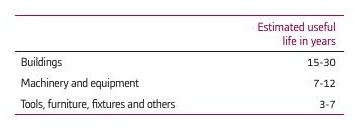table: (0, 0, 355, 128)
